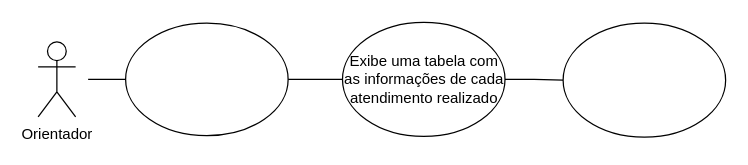
This 748x165 diagram has some shape labels left out. The shapes that lost their labels are listed below. From the top down, each one's box as (x1, y1, x2, y2) in pixels, then its label:
(124, 22, 288, 136): Apresenta todas as matérias que possuem monitores
(562, 22, 726, 137): Disponibiliza a tabela no formato .xlsx
